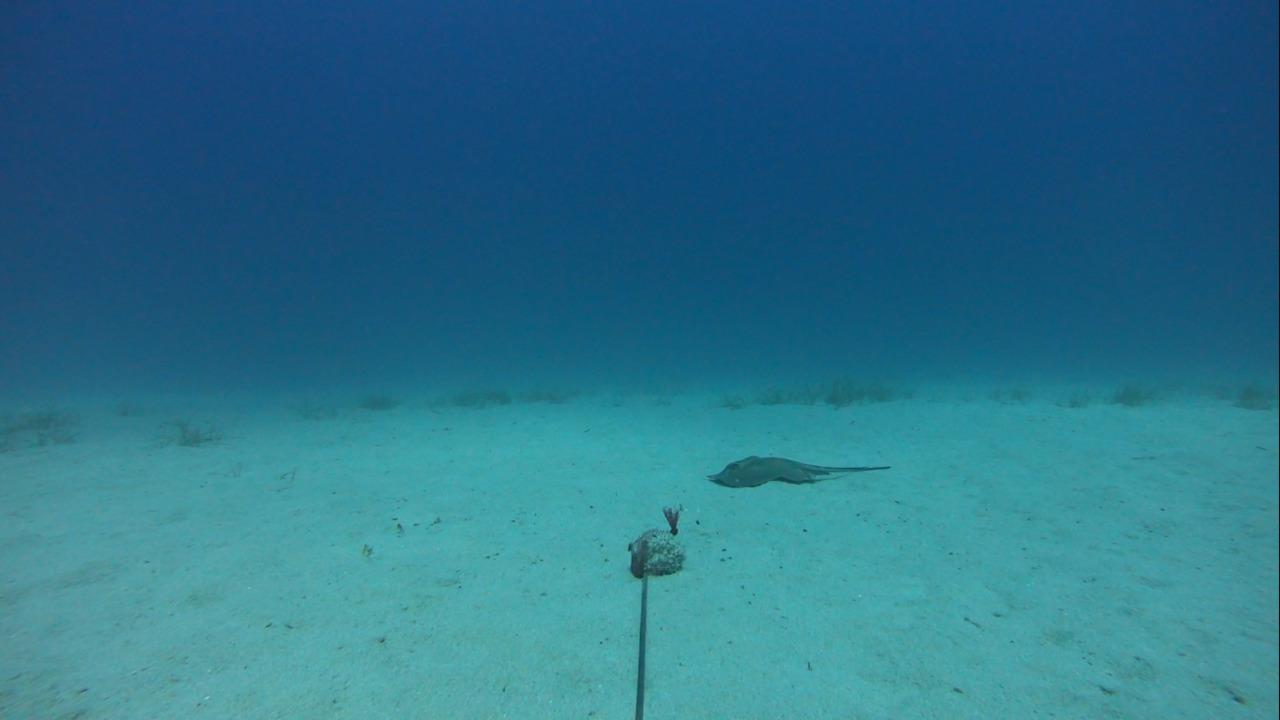myliobatis: (701, 445, 894, 497)
